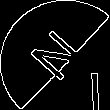N_SE: (22, 23, 88, 87)
